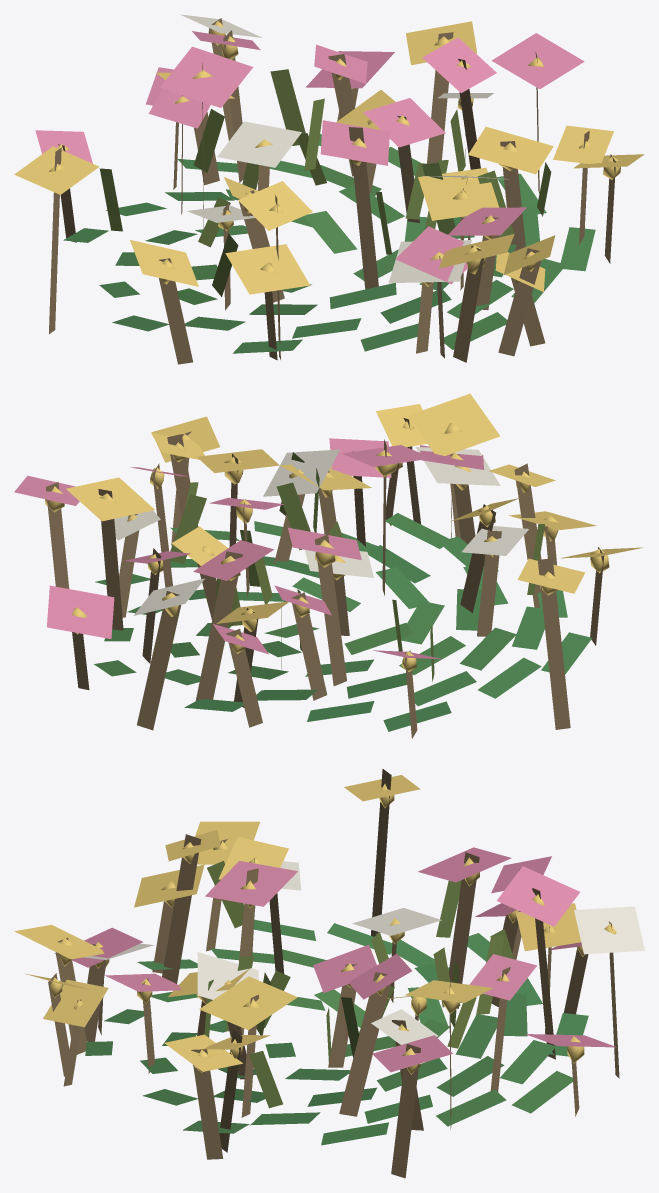
Rendered from flower_patch_far.565e1c7c.glb.
3 views of the same model, one above another, from view 1: azimuth 30°, elevation 25°; view 2: azimuth 150°, elevation 25°; view 3: azimuth 270°, elevation 25° (orthographic). The views are drawn at different scales.
Visible parts, largest first — view 1: flower_patch; view 2: flower_patch; view 3: flower_patch.
Part boxes in pixels (x1,y1,x2,y2): flower_patch: [14, 14, 644, 364]; flower_patch: [14, 393, 642, 738]; flower_patch: [14, 769, 644, 1178].
Size of the model in its own units: 1.59 by 0.5152 by 1.53.
